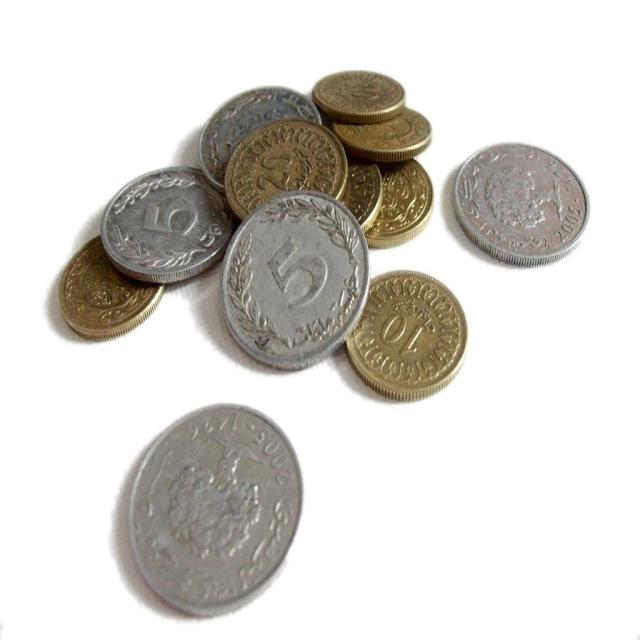Coin: (129, 403, 303, 619), (218, 189, 374, 372), (454, 141, 591, 270), (343, 268, 469, 402), (99, 166, 234, 288), (195, 82, 325, 192), (222, 118, 348, 222), (58, 234, 168, 338), (362, 155, 438, 250), (329, 98, 433, 162), (313, 69, 406, 118), (338, 150, 381, 235)
